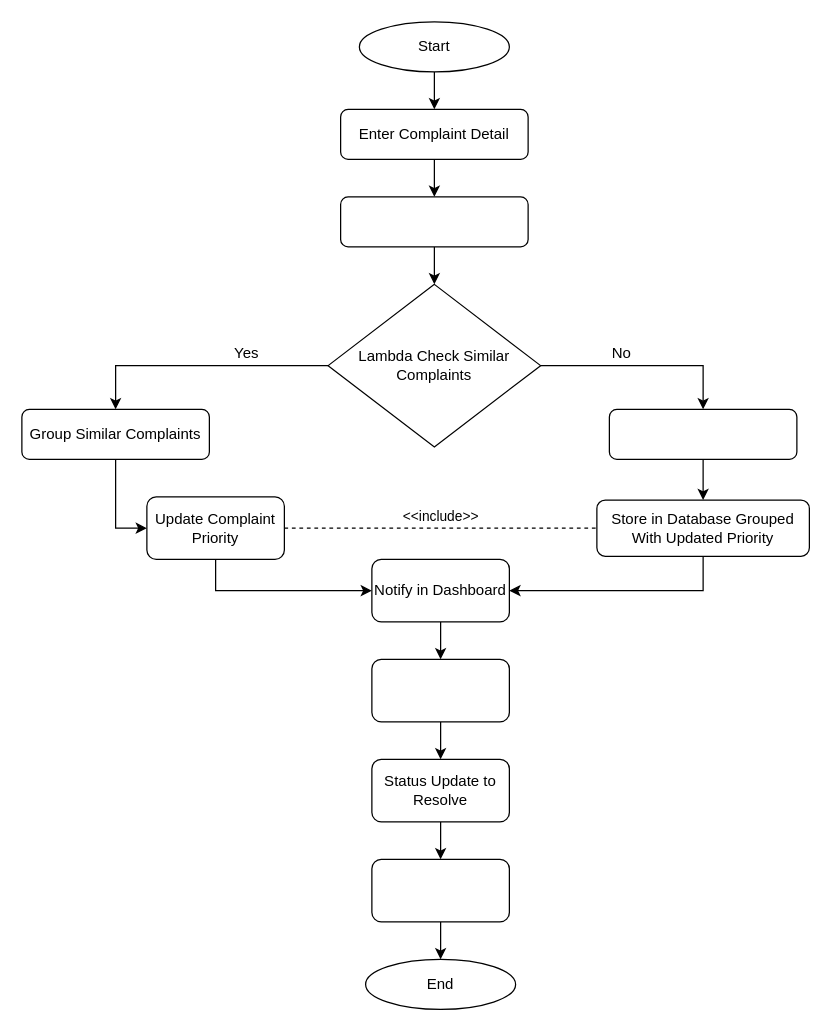
The diagram is 831 pixels wide and 1031 high, and some of its shapes have lost their labels. The shapes that lost their labels are listed below. From the top down, each one's centre as x and y in pixels, then its label:
pixel 433 221: API Gateway Validate
pixel 702 433: Create New Complaints Group
pixel 440 690: Railway Assing Complaint to Staff
pixel 440 890: Update Dashboard
